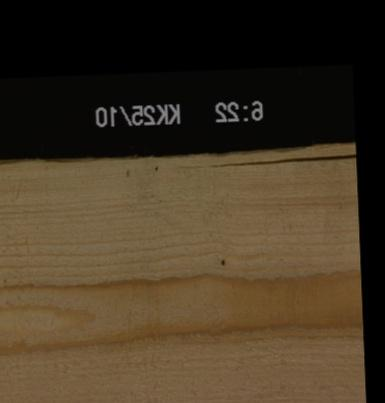small_knot: (216, 255, 228, 268)
split: (172, 150, 355, 168)
